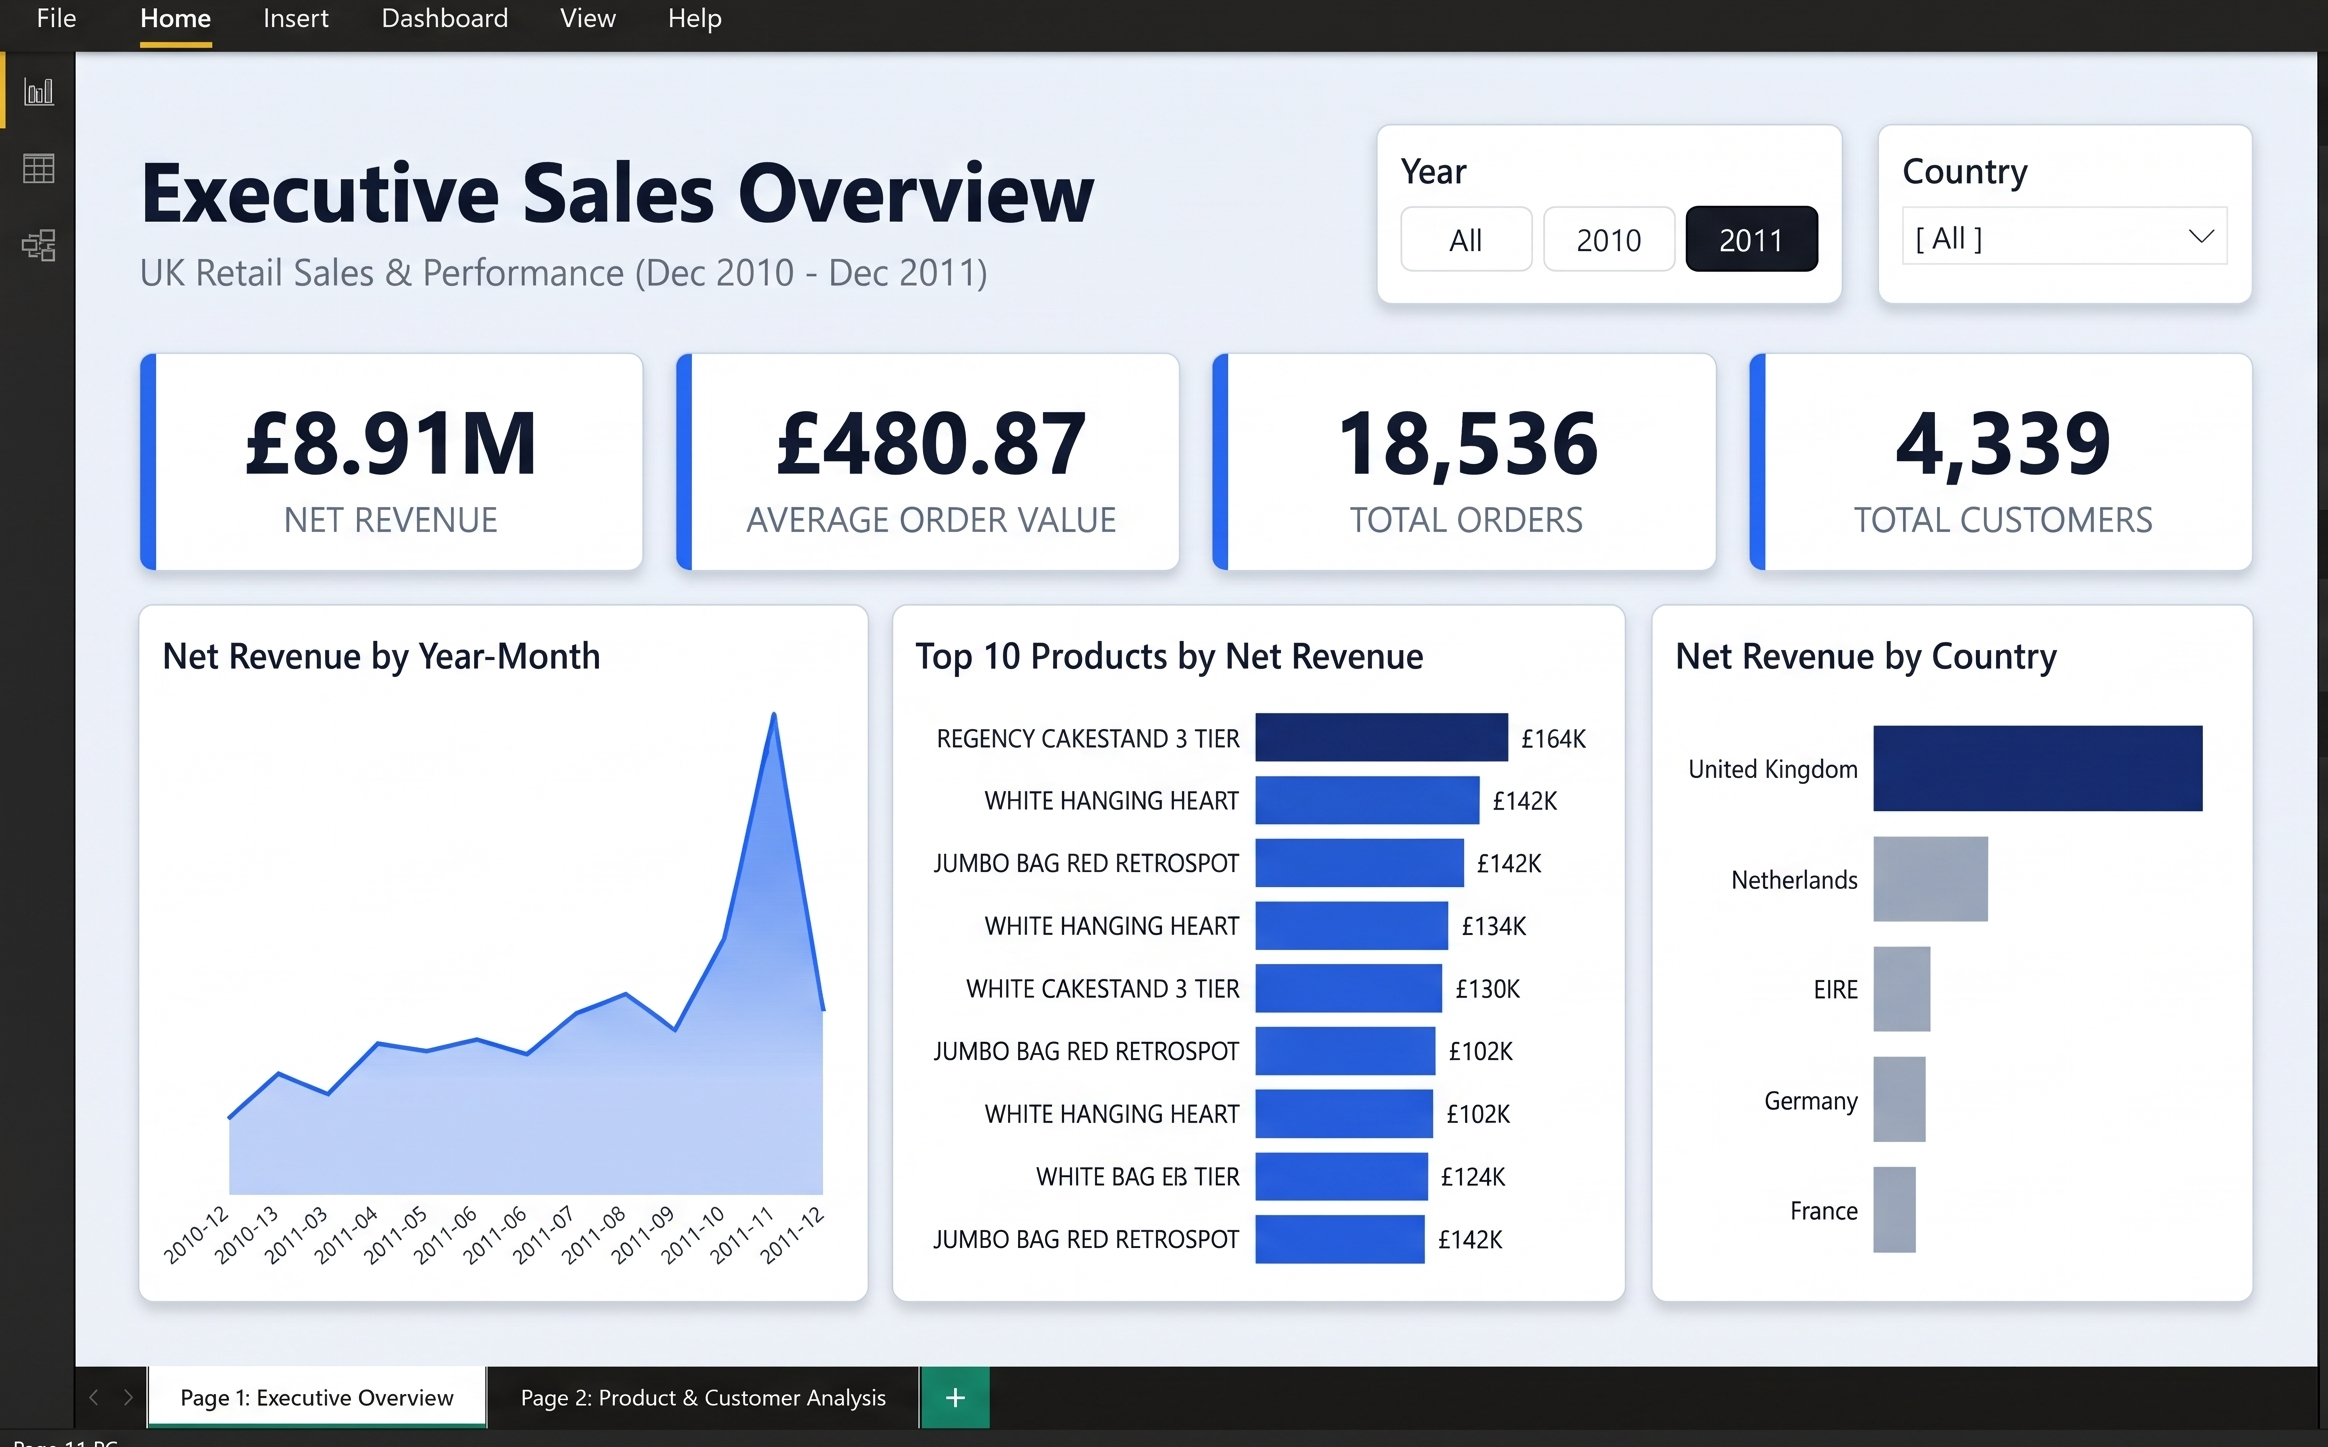

What the dashboard file says about the page in this screenshot:
{"tool":"powerbi","page":{"name":"Page 1","canvas":[1280,720],"ordinal":0},"visuals":[{"type":"cardVisual","fields":{"Data":["_Key Measures.Net Revenue"]},"box":[22,172.9,226.4,137.2],"z":0},{"type":"cardVisual","fields":{"Data":["_Key Measures.Total Orders"]},"box":[610.6,181.1,237.4,138.6],"z":1000},{"type":"cardVisual","fields":{"Data":["_Key Measures.Total Customers"]},"box":[974.3,181.1,204.5,142.7],"z":2000},{"type":"cardVisual","fields":{"Data":["_Key Measures.Average Order Value"]},"box":[306,177,229.2,138.6],"z":3000},{"type":"lineChart","fields":{"Category":["Dim_Date.Year-Month"],"Y":["_Key Measures.Net Revenue"]},"box":[28.3,350,320,370],"z":4000},{"type":"clusteredBarChart","fields":{"Category":["Dim_Product.Description"],"Y":["_Key Measures.Net Revenue"]},"box":[381.7,336.7,356.7,383.3],"z":5000},{"type":"barChart","fields":{"Y":["_Key Measures.Net Revenue"],"Category":["Dim_Customer.Country"]},"box":[848.3,336.7,431.7,383.3],"z":6000},{"type":"slicer","fields":{"Values":["Dim_Date.Year"]},"box":[802.7,28.8,220.9,124.9],"z":7000},{"type":"slicer","fields":{"Values":["Dim_Customer.Country"]},"box":[1064.8,43.9,153.7,96.1],"z":8000},{"type":"shape","box":[16.5,172.9,12.3,142.7],"z":9000},{"type":"shape","box":[596.9,175.6,13.7,141.3],"z":10000},{"type":"shape","box":[293.7,177,12.3,142.7],"z":11000},{"type":"shape","box":[959.2,178.4,15.1,141.3],"z":12000},{"type":"textbox","title":"Executive Sales Overview","box":[16.5,17.8,721.8,149.6],"z":12001}]}

Visuals, with their boxes on the page's 1280x720 design canvas (x1, y1, x2, y2). These are canvas units, not pixel positions in the 2328x1447 screenshot, which may show the page scaled, cropped or inside an application window:
cardVisual - _Key Measures.Net Revenue: crop(22, 173, 248, 310)
cardVisual - _Key Measures.Total Orders: crop(611, 181, 848, 320)
cardVisual - _Key Measures.Total Customers: crop(974, 181, 1179, 324)
cardVisual - _Key Measures.Average Order Value: crop(306, 177, 535, 316)
lineChart - Dim_Date.Year-Month x _Key Measures.Net Revenue: crop(28, 350, 348, 720)
clusteredBarChart - Dim_Product.Description x _Key Measures.Net Revenue: crop(382, 337, 738, 720)
barChart - _Key Measures.Net Revenue x Dim_Customer.Country: crop(848, 337, 1280, 720)
slicer - Dim_Date.Year: crop(803, 29, 1024, 154)
slicer - Dim_Customer.Country: crop(1065, 44, 1218, 140)
shape: crop(16, 173, 29, 316)
shape: crop(597, 176, 611, 317)
shape: crop(294, 177, 306, 320)
shape: crop(959, 178, 974, 320)
"Executive Sales Overview" textbox: crop(16, 18, 738, 167)
